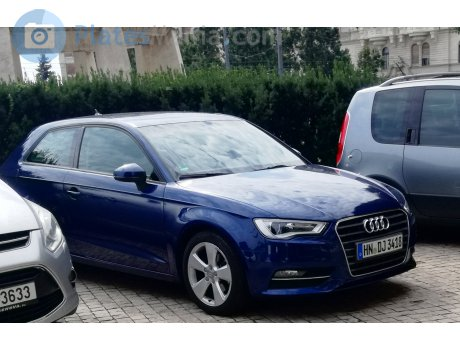License Plates: (362, 243, 400, 250)
